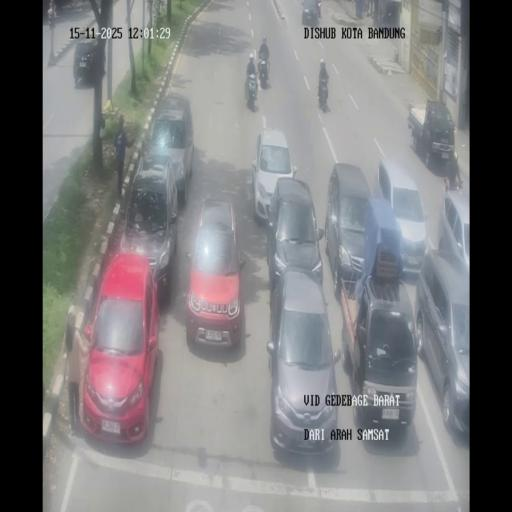car: (81, 252, 161, 444), (267, 270, 339, 458), (342, 262, 418, 440), (414, 246, 469, 441), (185, 195, 246, 348), (372, 158, 427, 278), (325, 162, 374, 296), (145, 96, 195, 202), (252, 126, 295, 224), (409, 98, 455, 169), (438, 188, 469, 285), (73, 38, 105, 87), (301, 0, 320, 24)
motorcycle: (444, 152, 463, 189), (244, 70, 258, 112), (317, 75, 329, 112), (258, 56, 270, 88), (48, 10, 56, 30), (362, 0, 370, 18), (317, 0, 322, 18)
